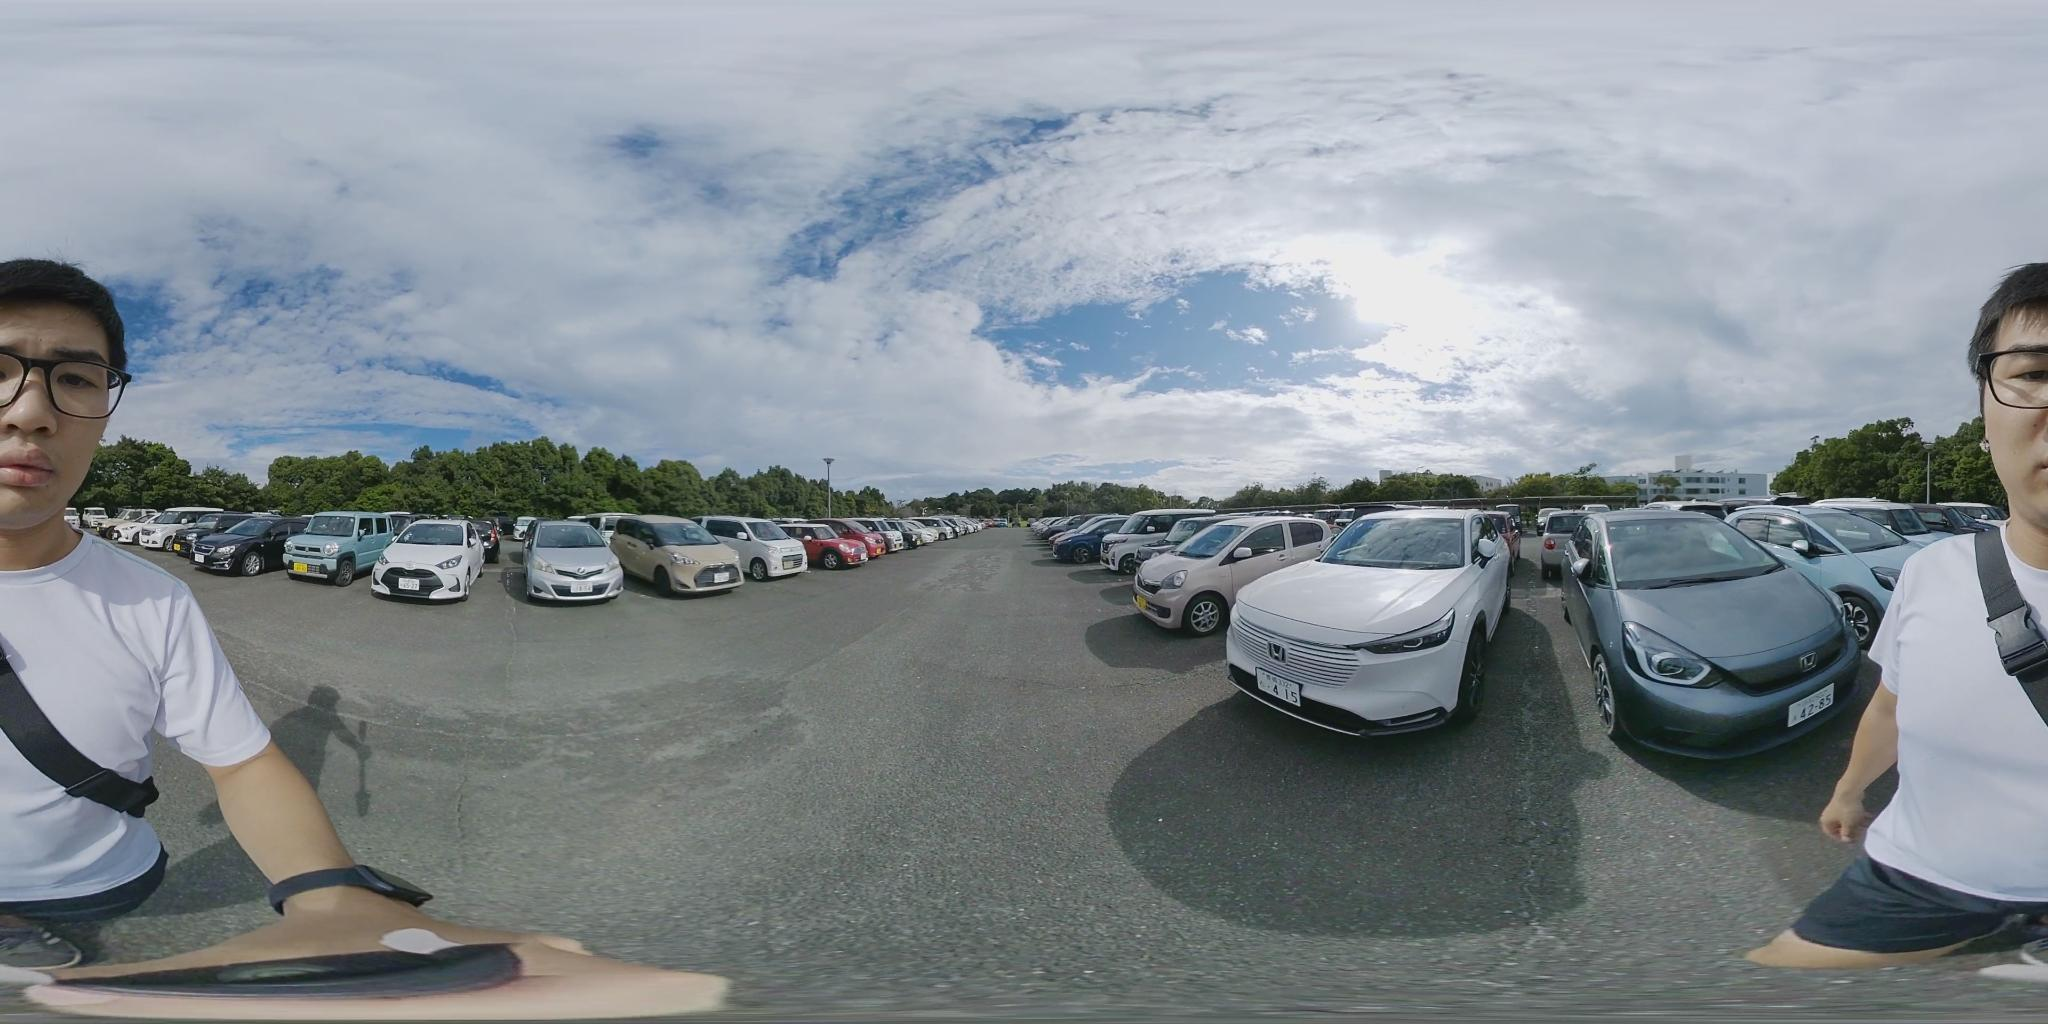car: (1545, 507, 1873, 758), (1225, 507, 1527, 742), (1724, 508, 1933, 636), (1132, 516, 1347, 637), (580, 515, 751, 600), (364, 519, 494, 598), (522, 520, 633, 602), (282, 515, 406, 584), (1093, 512, 1229, 572), (701, 517, 818, 579), (184, 513, 300, 573), (785, 521, 879, 567), (116, 515, 222, 551), (1911, 503, 2008, 533)
